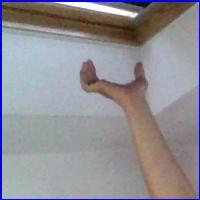space: (74, 54, 155, 108)
